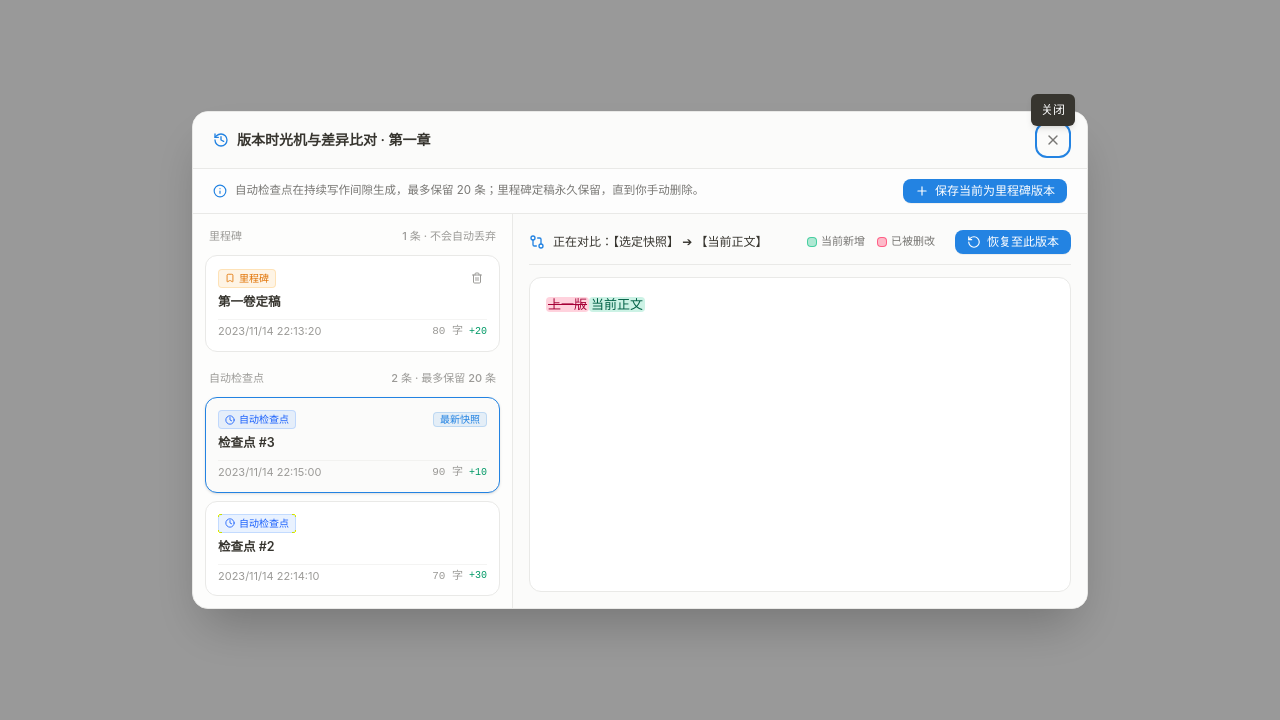
Test: HistoryModal 里程碑与自动检查点分区 › 只给里程碑删除入口，并且删除后自动检查点原样保留
Expected: the text "第一卷定稿" is shown, [218, 294, 280, 309]
Click the button named "删除里程碑" at [477, 278], box [467, 268, 487, 288]
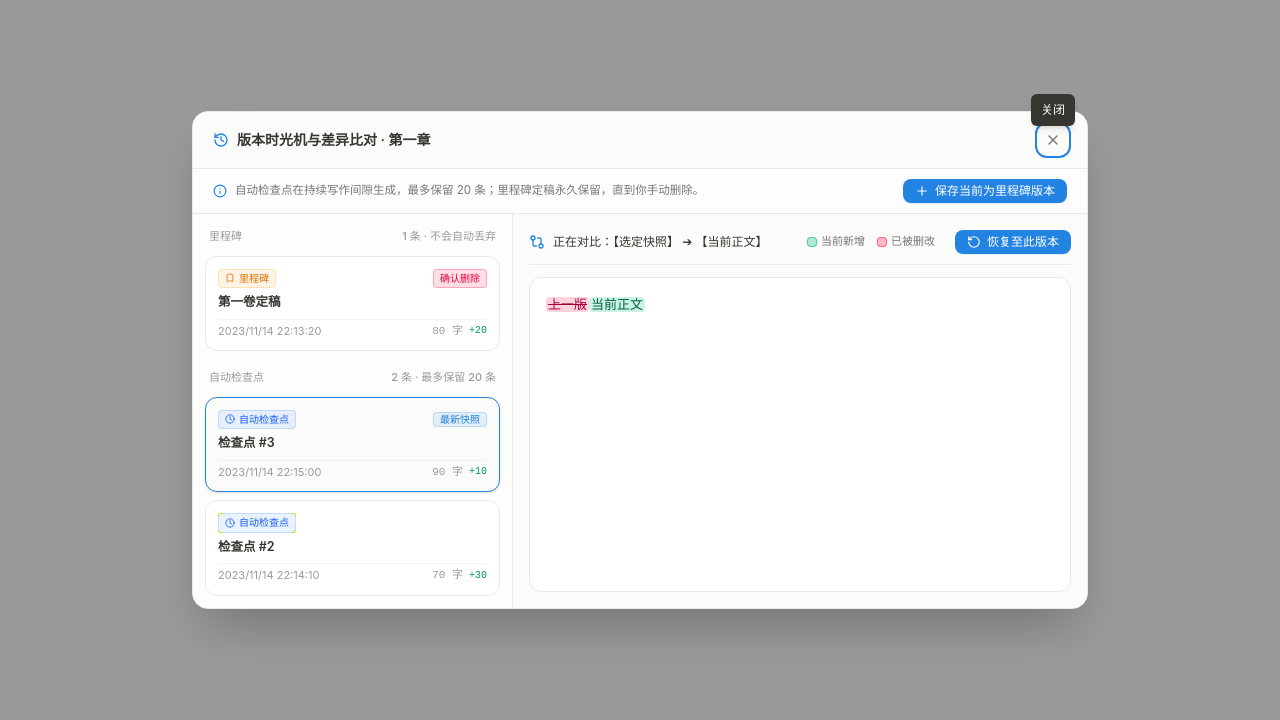
Click the button "确认删除" at [460, 278], box [433, 268, 487, 288]
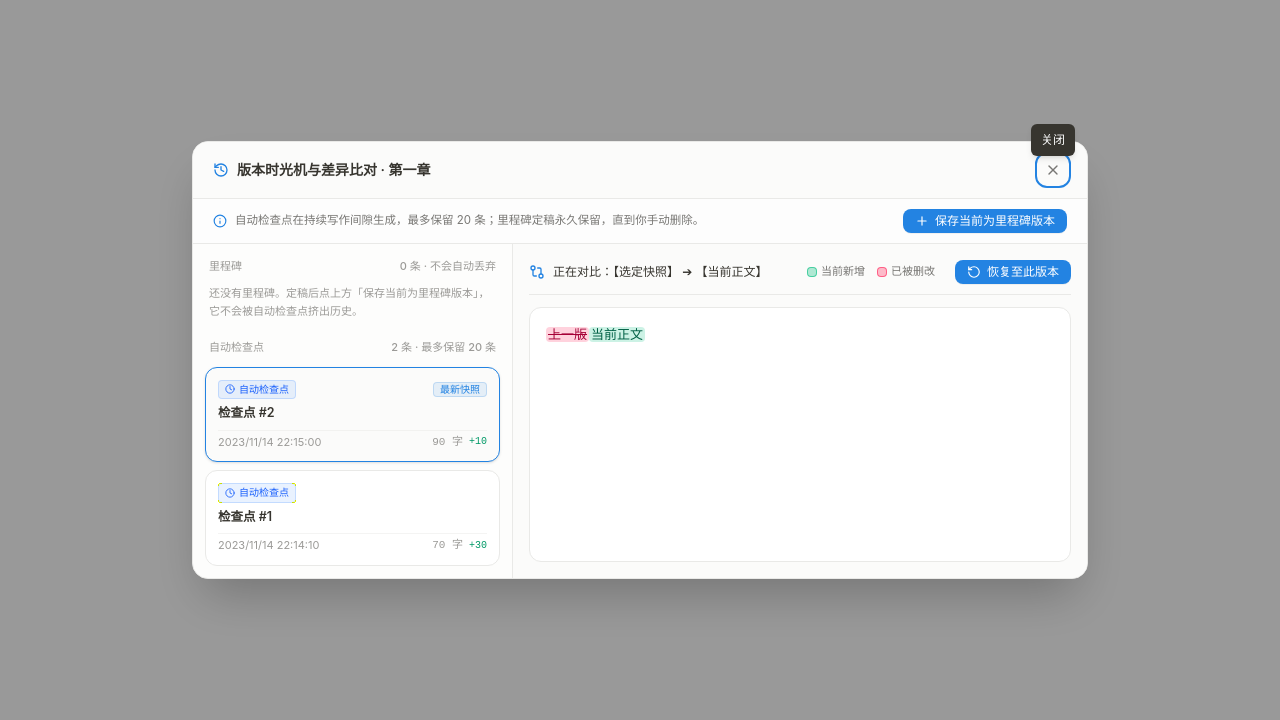
Expected: the text "第一卷定稿" is gone
Expected: the text "还没有里程碑。定稿后点上方「保存当前为里程碑版本」，它不会被自动检查点挤出历史。" is shown, [205, 286, 500, 321]
Expected: the text "检查点 #2" is shown 2 times, [218, 405, 274, 420]; [218, 509, 272, 524]
